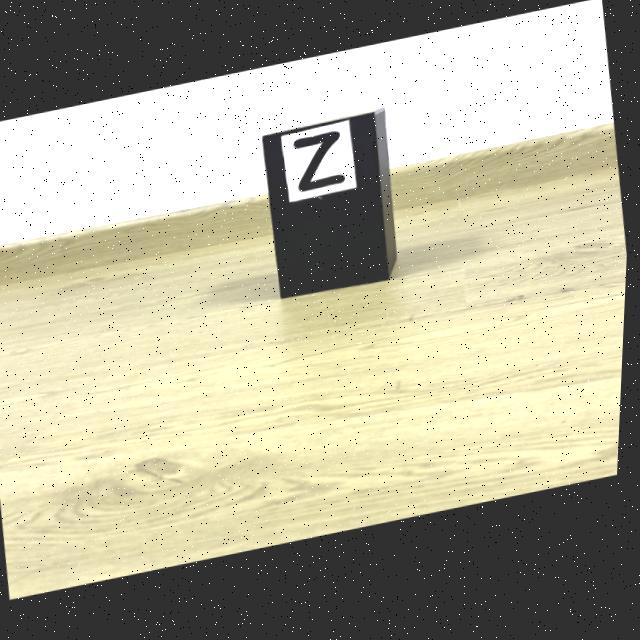Z: (295, 136, 347, 196)
